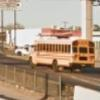buses: (29, 37, 95, 72)
